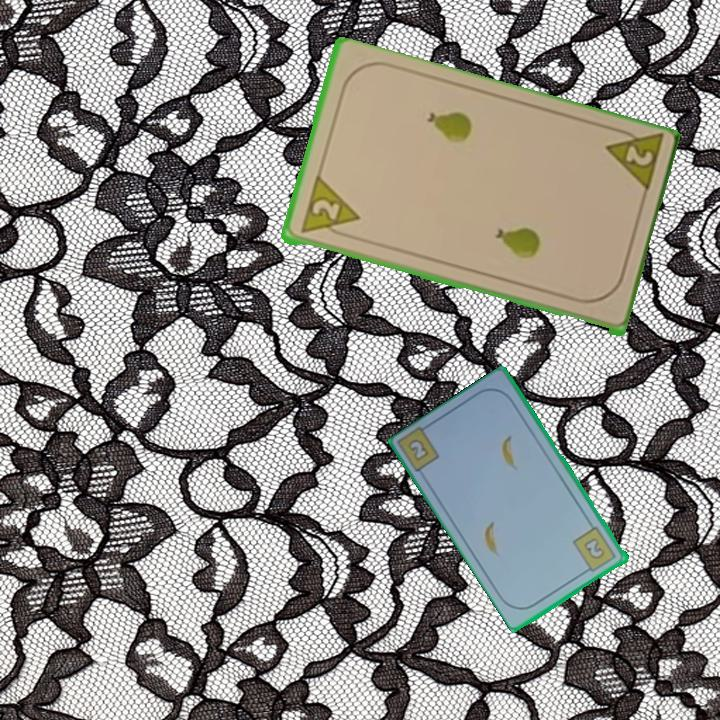2b: (569, 523, 619, 576), (404, 435, 432, 464)
2p: (601, 123, 666, 198), (296, 175, 362, 240)
